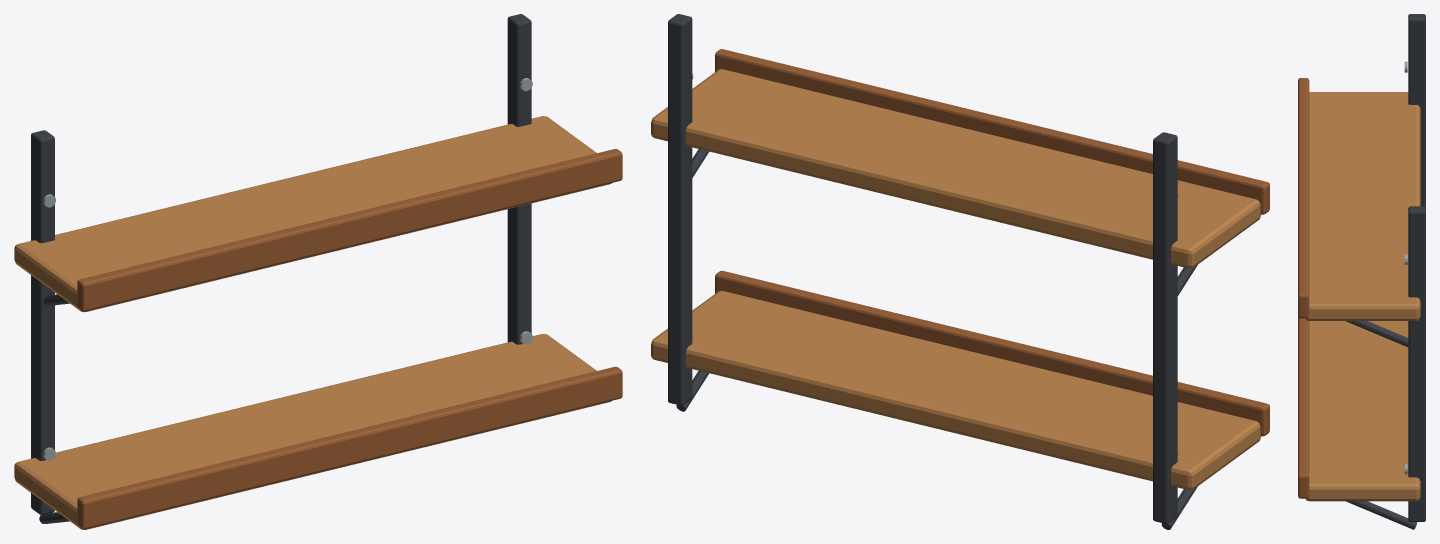
The model's file is wall_storage_shelf.fbx.
The picture shows the model from 3 angles, left to right: view 1: azimuth 30°, elevation 25°; view 2: azimuth 150°, elevation 25°; view 3: azimuth 270°, elevation 25°; orthographic projection. The views are drawn at different scales.
Visible parts, largest first — view 1: wall_storage_shelf; view 2: wall_storage_shelf; view 3: wall_storage_shelf.
Part boxes in pixels (<box>): wall_storage_shelf: <box>14,14,622,529</box>; wall_storage_shelf: <box>651,14,1269,529</box>; wall_storage_shelf: <box>1298,14,1425,529</box>.
Bounding box in the file's own units: 1.52 × 1.04 × 0.3765.
